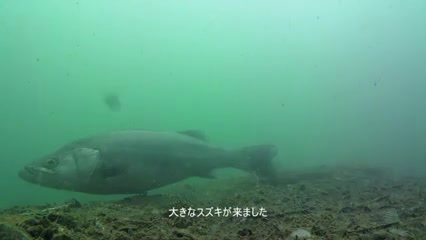suzuki: (10, 134, 285, 191)
